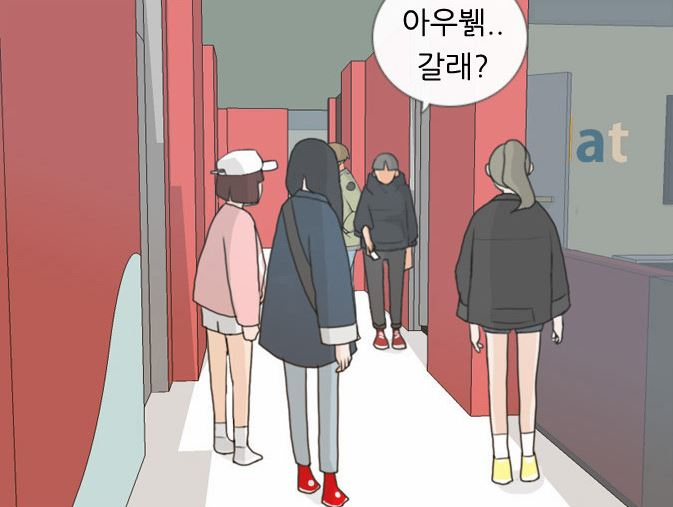hat: (214, 149, 280, 176)
